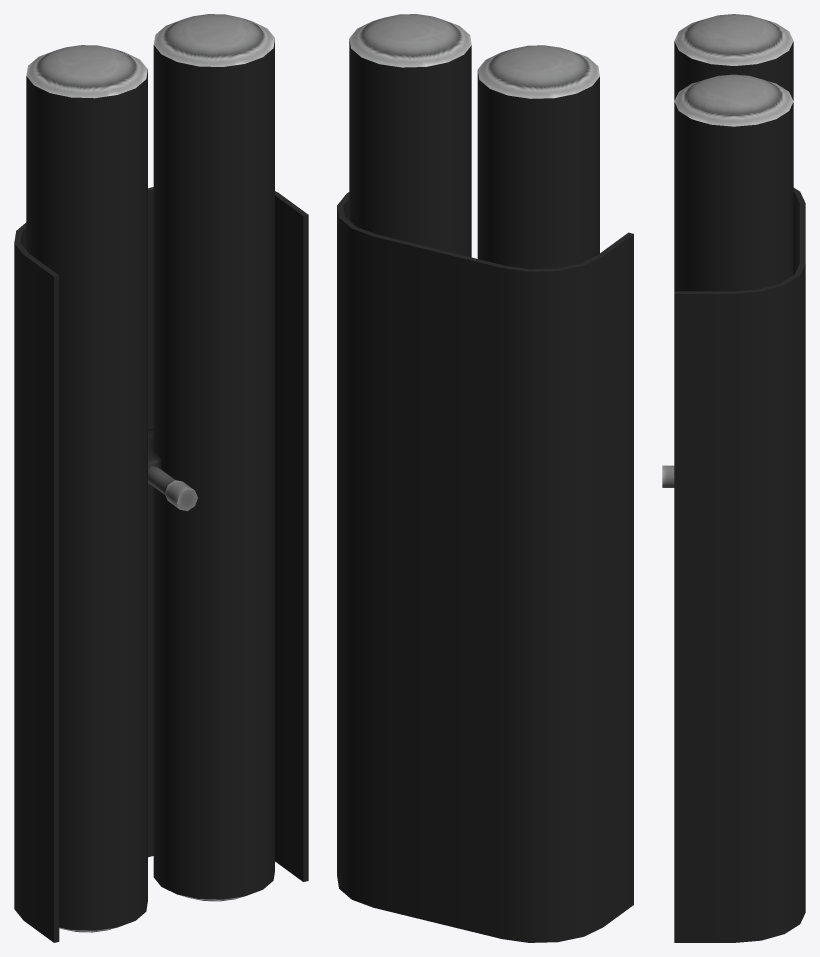
File: aquila_fuel_tank_double_srf_2.obj
3 views of the same model, side by side, from view 1: azimuth 30°, elevation 25°; view 2: azimuth 150°, elevation 25°; view 3: azimuth 270°, elevation 25° (orthographic). The views are drawn at different scales.
Parts seen in each view (by area): view 1: aquila_tank_double_srf_2; view 2: aquila_tank_double_srf_2; view 3: aquila_tank_double_srf_2.
Part boxes in pixels (left/top/right/bottom): aquila_tank_double_srf_2: left=14, top=14, right=308, bottom=942; aquila_tank_double_srf_2: left=337, top=14, right=633, bottom=942; aquila_tank_double_srf_2: left=662, top=14, right=805, bottom=942.
Bounding box in the file's own units: 0.6 × 1.95 × 0.3.
